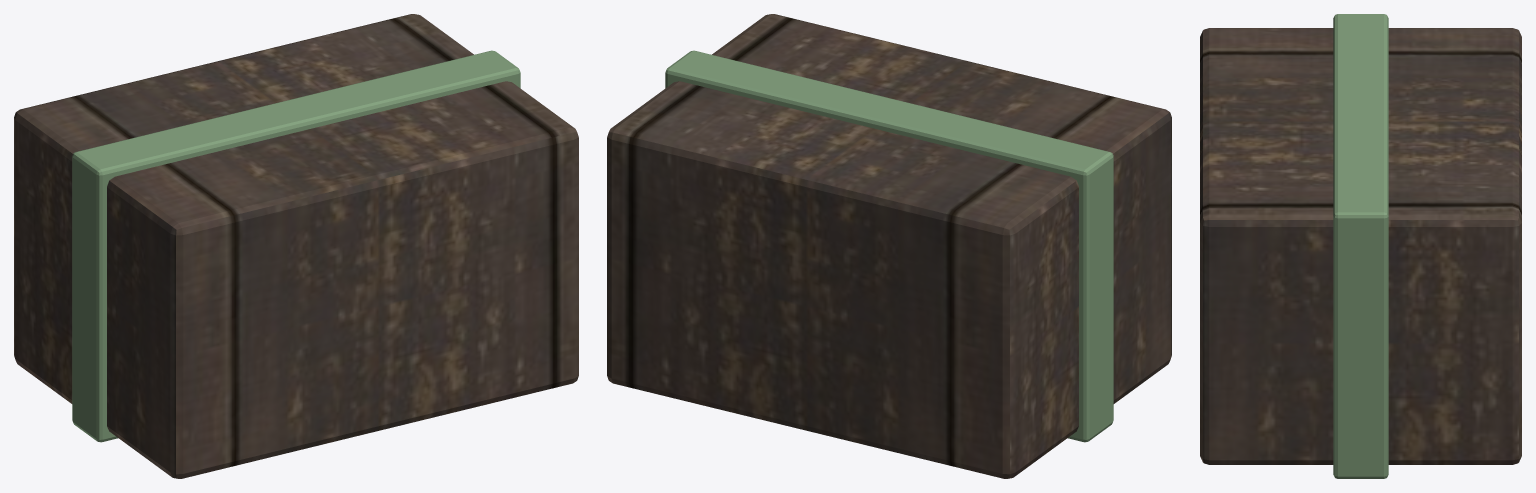
File: steam_kit.glb
The picture shows the model from 3 angles, left to right: view 1: azimuth 30°, elevation 25°; view 2: azimuth 150°, elevation 25°; view 3: azimuth 270°, elevation 25°; orthographic projection. The views are drawn at different scales.
Visible parts, largest first — view 1: crate, band; view 2: crate, band; view 3: crate, band.
Part boxes in pixels (x1,y1,x2,y2): crate: (14, 14, 578, 478); band: (72, 50, 520, 442); crate: (607, 14, 1171, 478); band: (665, 50, 1113, 442); crate: (1200, 28, 1521, 464); band: (1333, 14, 1388, 478).
Size of the model in its own units: 0.52 by 0.32 by 0.35.
Materials: 2 (1 with a texture image).
